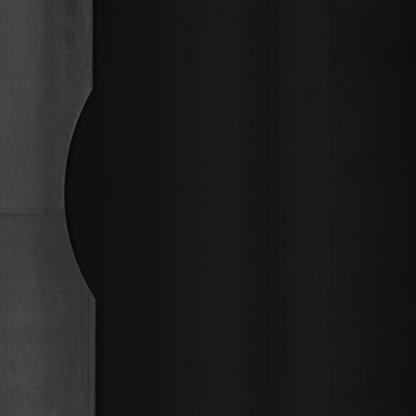crescent_gap: (57, 75, 112, 323)
welding_line: (0, 197, 70, 229)
